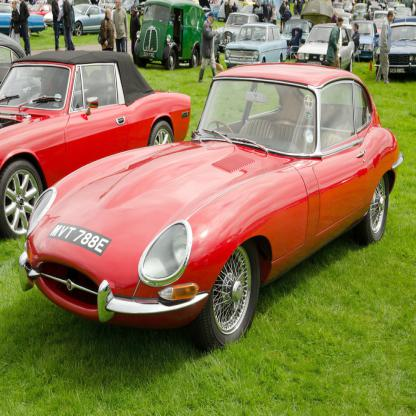Car: (0, 0, 416, 350)
